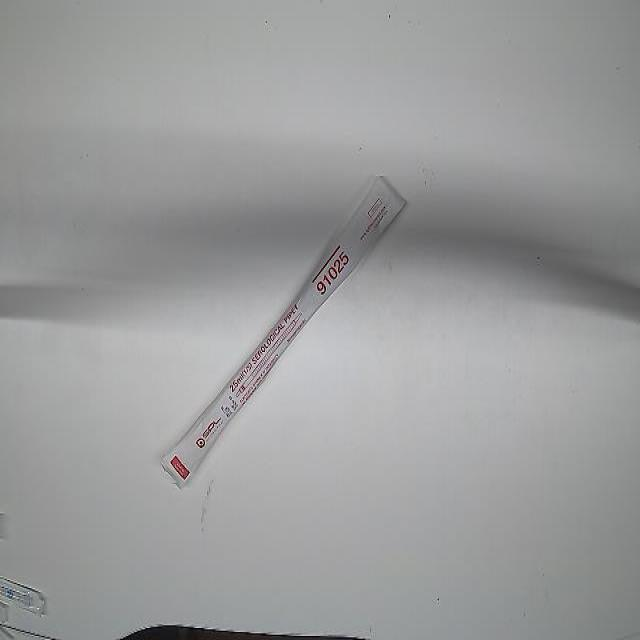Serelogical Pipet 25 mL: (160, 172, 412, 493)
Serelogical Pipet 5 mL: (0, 573, 49, 621)
